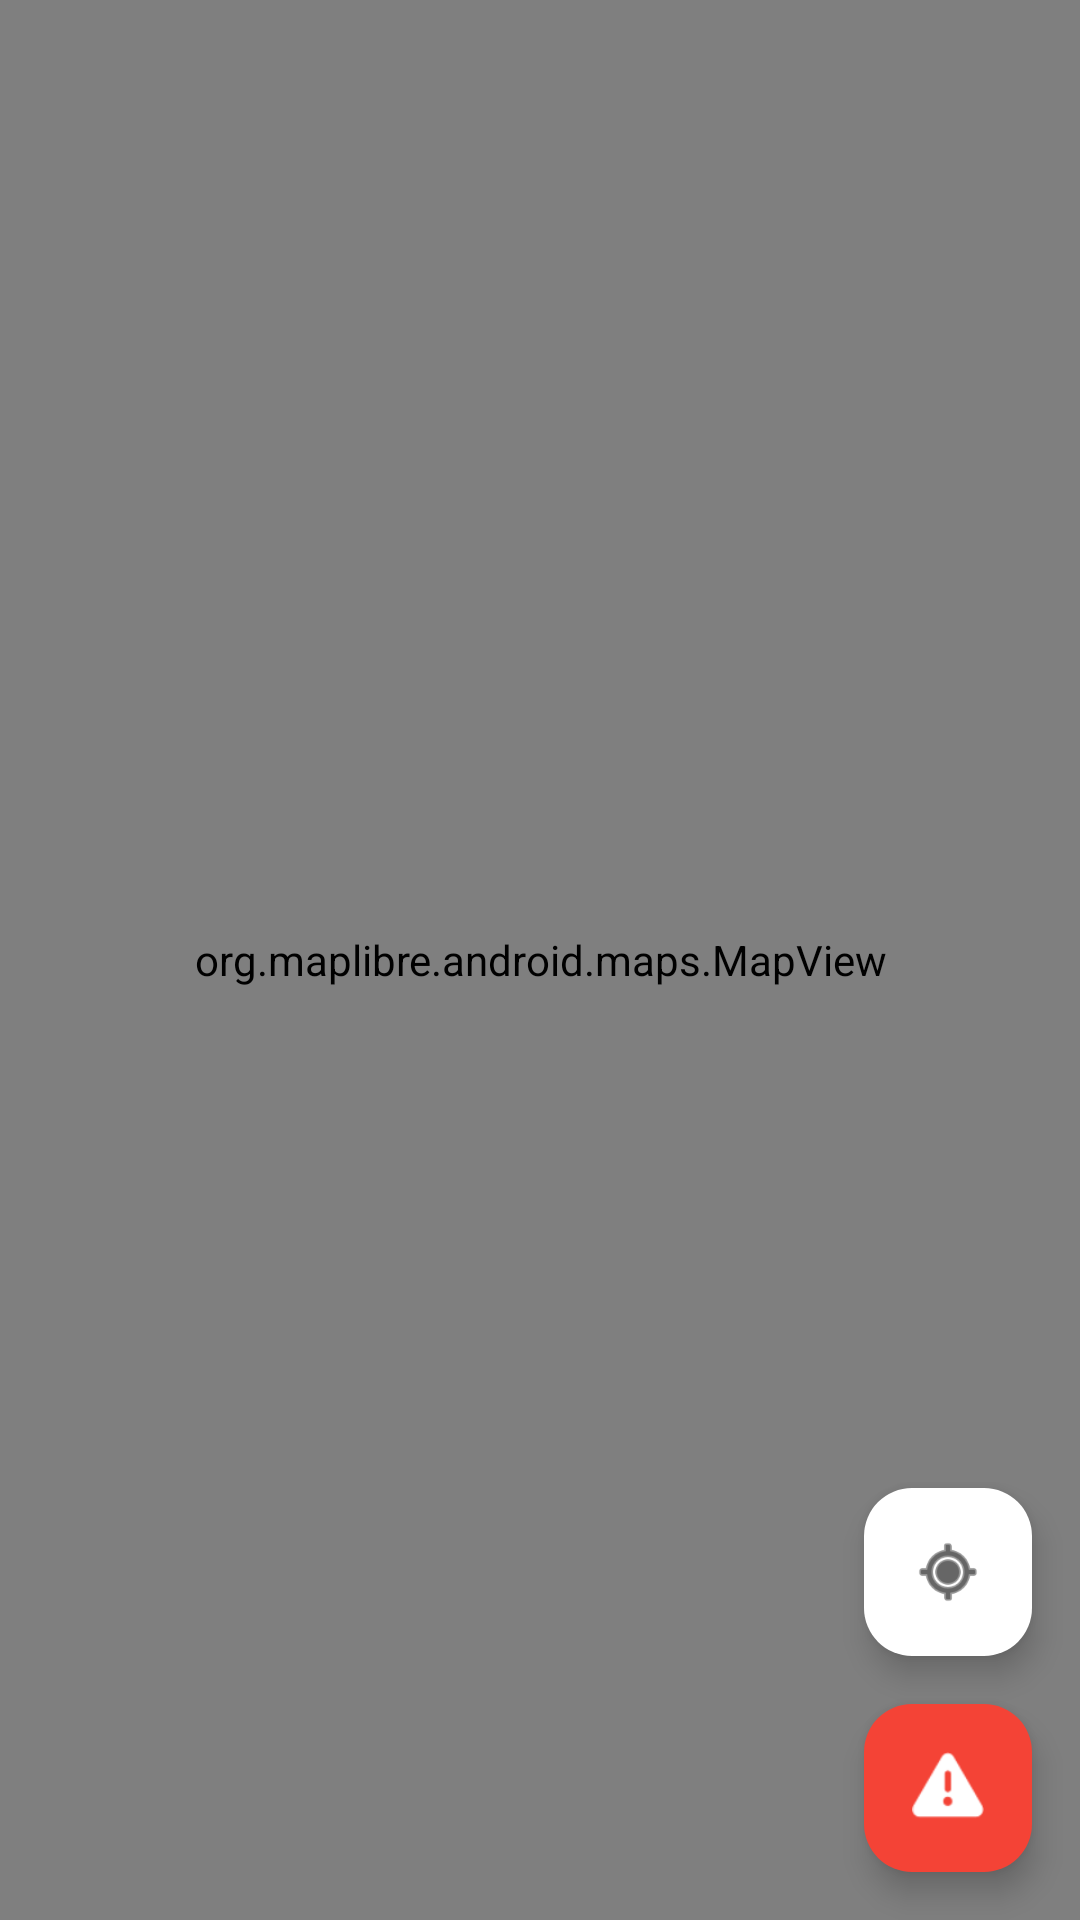

Named icons in this screenshot (1080 × 1920) and their centers, point (x, y):
SOS: point (948, 1788)
Toggle Navigation Mode: point (948, 1572)
